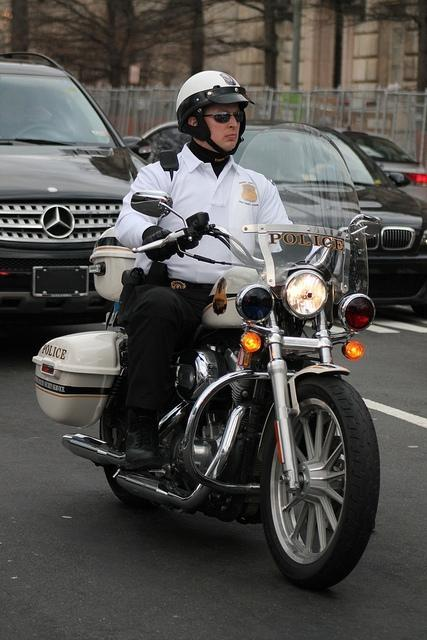car: (125, 120, 427, 316), (0, 50, 149, 328), (338, 130, 427, 202)
motorcycle: (72, 190, 418, 592)
